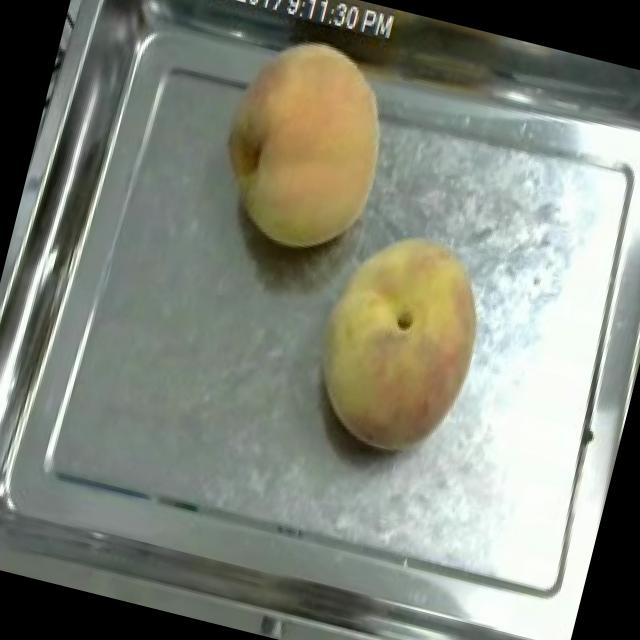Fruit: (288, 208, 509, 472), (198, 19, 414, 274)
